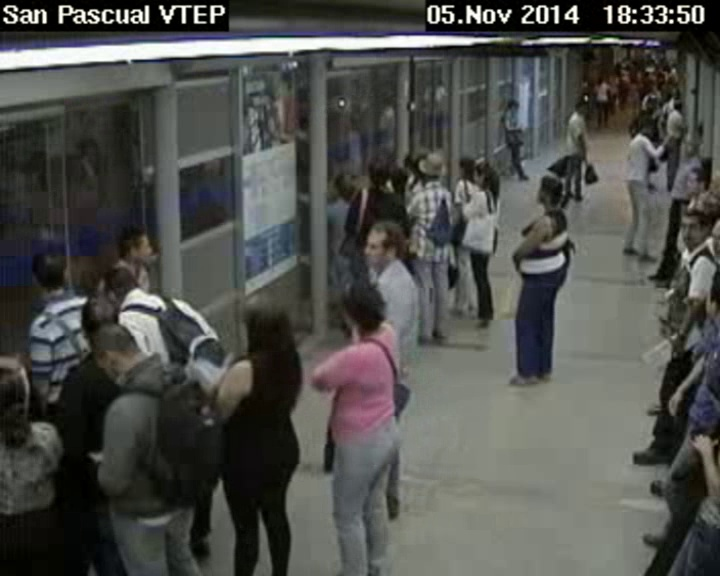person: (240, 288, 291, 354), (85, 319, 141, 377), (335, 279, 386, 338), (357, 222, 403, 278), (1, 356, 28, 437), (29, 248, 72, 298), (117, 222, 162, 268), (81, 290, 123, 336), (533, 166, 565, 214), (332, 163, 368, 203), (678, 202, 709, 248), (103, 266, 137, 301), (413, 153, 442, 181), (683, 165, 706, 196), (470, 161, 495, 186), (370, 162, 393, 187), (452, 156, 477, 178), (706, 216, 720, 253), (635, 117, 657, 135), (568, 96, 588, 115), (503, 93, 524, 111), (668, 97, 689, 110), (644, 87, 656, 96), (597, 76, 606, 84)
